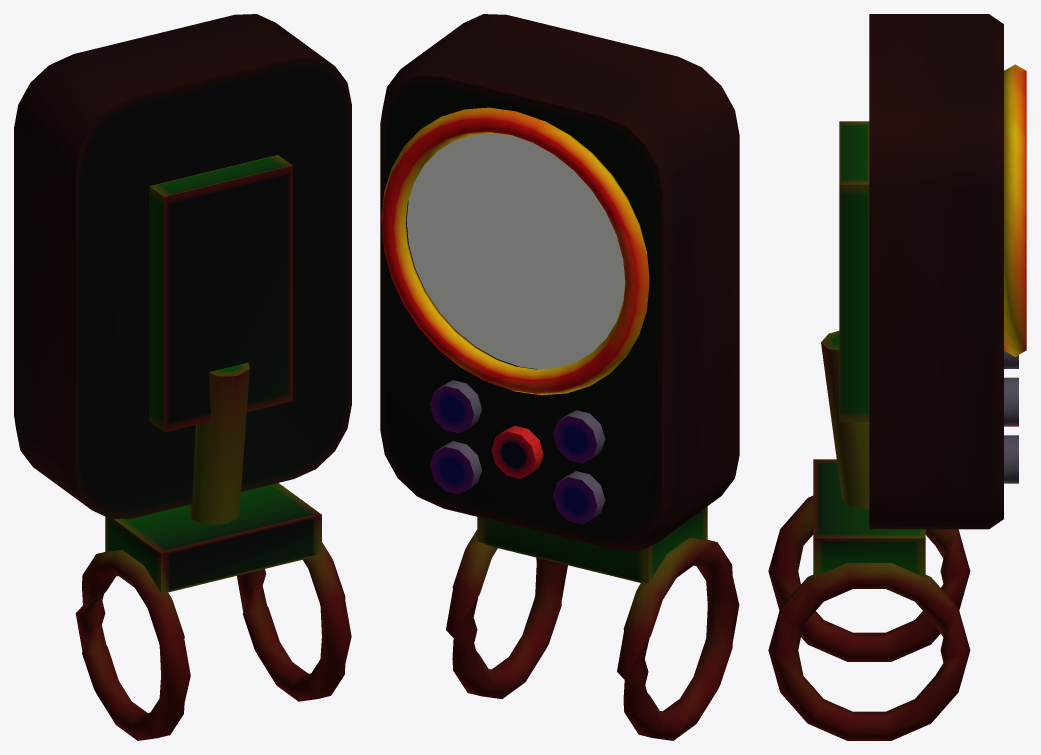
Rendered from vario_90s.glb.
3 renders of one model, left to right at view 1: azimuth 30°, elevation 25°; view 2: azimuth 150°, elevation 25°; view 3: azimuth 270°, elevation 25°, orthographic. The views are drawn at different scales.
Parts seen in each view (by area): view 1: Body; view 2: Body, Screen; view 3: Body.
Boxes of the visible parts, x1,y1,x2,y2 form: Body: (14, 14, 351, 740); Body: (380, 14, 739, 740); Screen: (406, 133, 625, 369); Body: (768, 14, 1026, 740).
Bounding box in the file's own units: 0.086 × 0.1883 × 0.069.
